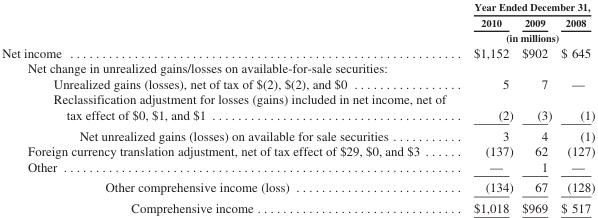table: (1, 0, 594, 214)
table column: (1, 0, 459, 214), (459, 0, 517, 214), (555, 0, 594, 214), (517, 0, 555, 214)
table column header: (1, 0, 594, 44)
table projected row header: (1, 60, 594, 75)
table row: (1, 91, 594, 124), (1, 176, 594, 197), (1, 124, 594, 142), (1, 158, 594, 176), (1, 197, 594, 214), (1, 44, 594, 60), (1, 75, 594, 91), (1, 142, 594, 158), (1, 14, 594, 29), (1, 29, 594, 44), (1, 60, 594, 75), (1, 0, 594, 14)
table spanning cell: (459, 29, 594, 44), (459, 0, 594, 14)
